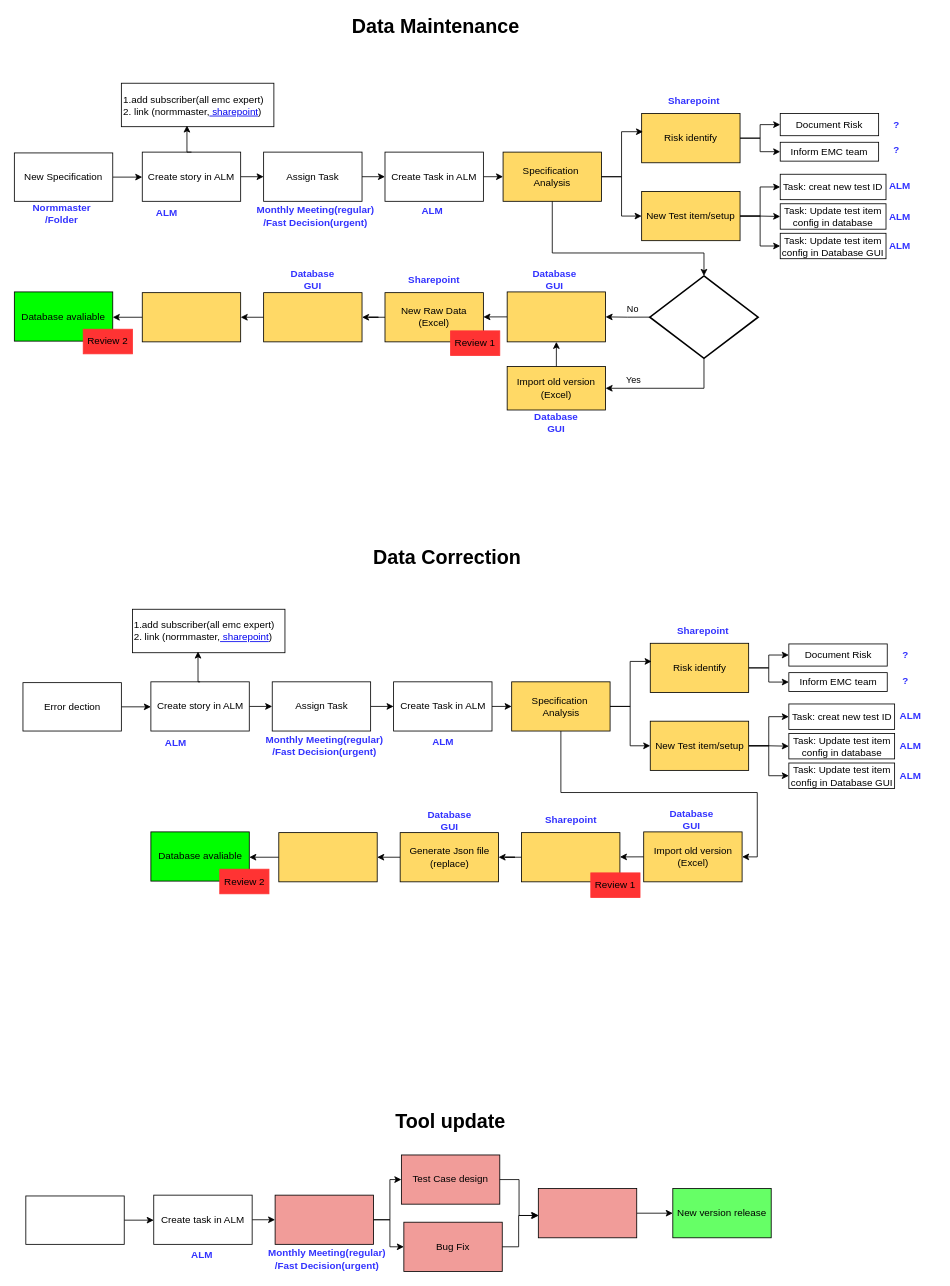
Some shapes in this 950 by 1286 pixel diagram are drawn without their labels. The centre of each missing label's shape, as x and y in pixels:
Bug Detcted/New requirement: [74,1219]
Bug Requirement Clarify: [324,1219]
Generate Json file: [312,317]
New Raw Data (Excel) (replace): [570,857]
Test/Verify: [587,1213]
Update Raw Data (Excel): [556,316]
Update to existing specification ?: [703,317]
Upload to Database (New): [191,317]
Upload to Database (Replace): [327,857]
